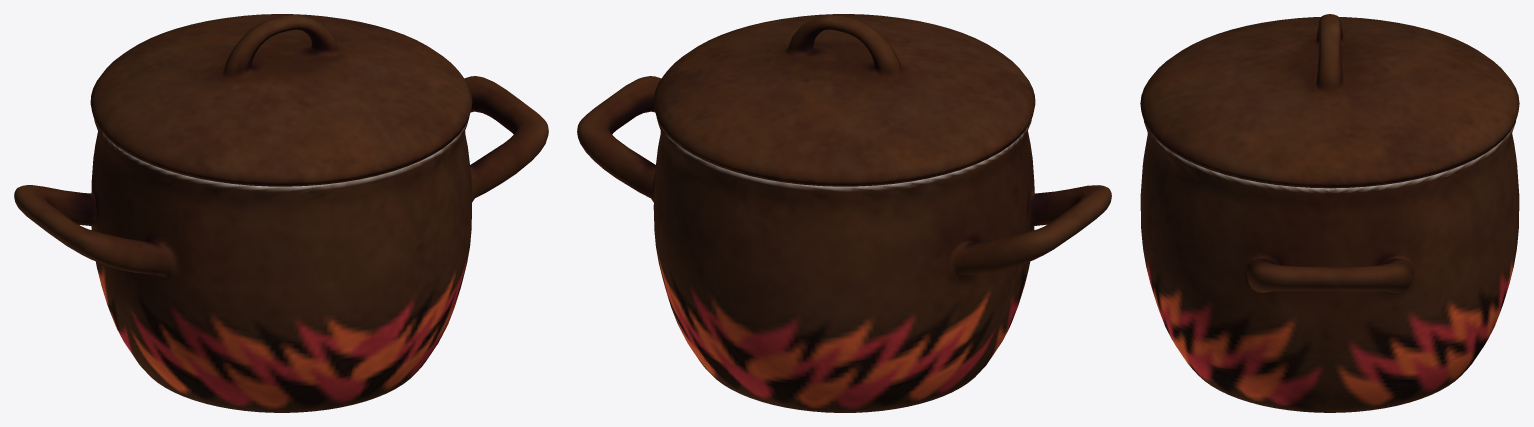
File: rendering_cooker.glb
The picture shows the model from 3 angles, left to right: view 1: azimuth 30°, elevation 25°; view 2: azimuth 150°, elevation 25°; view 3: azimuth 270°, elevation 25°; orthographic projection.
Parts seen in each view (by area): view 1: pot_enamel_01_base, pot_enamel_01_lid; view 2: pot_enamel_01_base, pot_enamel_01_lid; view 3: pot_enamel_01_base, pot_enamel_01_lid.
Boxes of the visible parts, x1,y1,x2,y2 form: pot_enamel_01_base: (14,76,548,412); pot_enamel_01_lid: (90,14,472,186); pot_enamel_01_base: (577,76,1111,412); pot_enamel_01_lid: (653,14,1035,186); pot_enamel_01_base: (1140,121,1519,412); pot_enamel_01_lid: (1140,14,1519,188).
Bounding box in the file's own units: 0.2628 × 0.1782 × 0.1805.
1 material, 1 textured.
